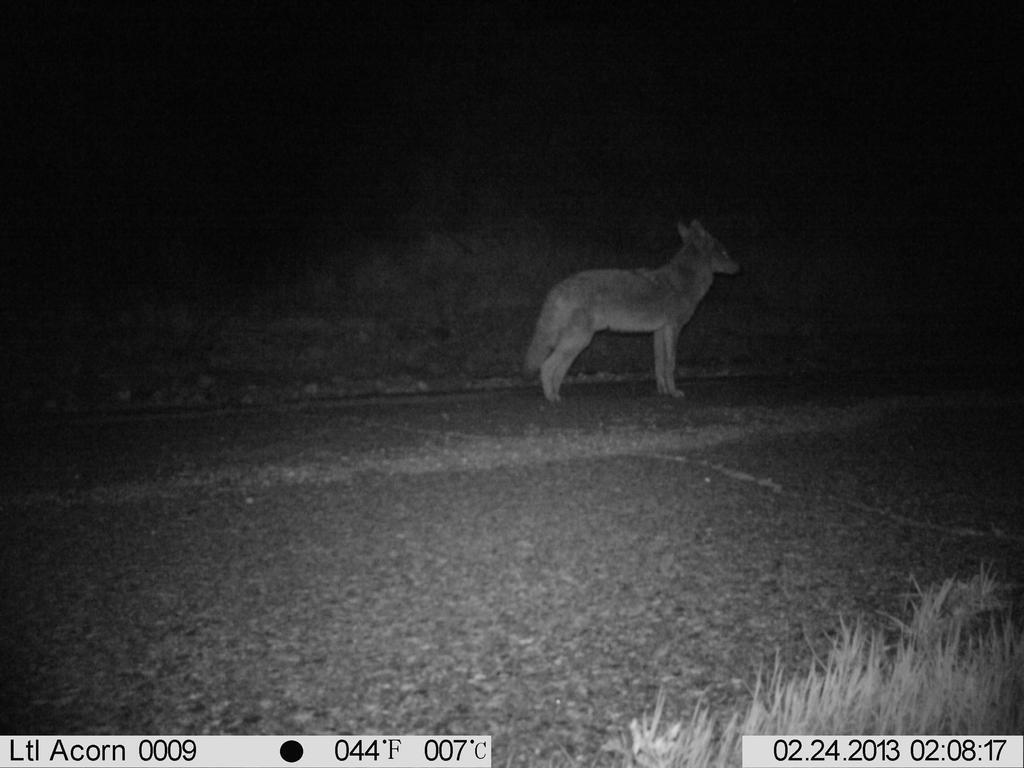coyote: (517, 214, 741, 415)
